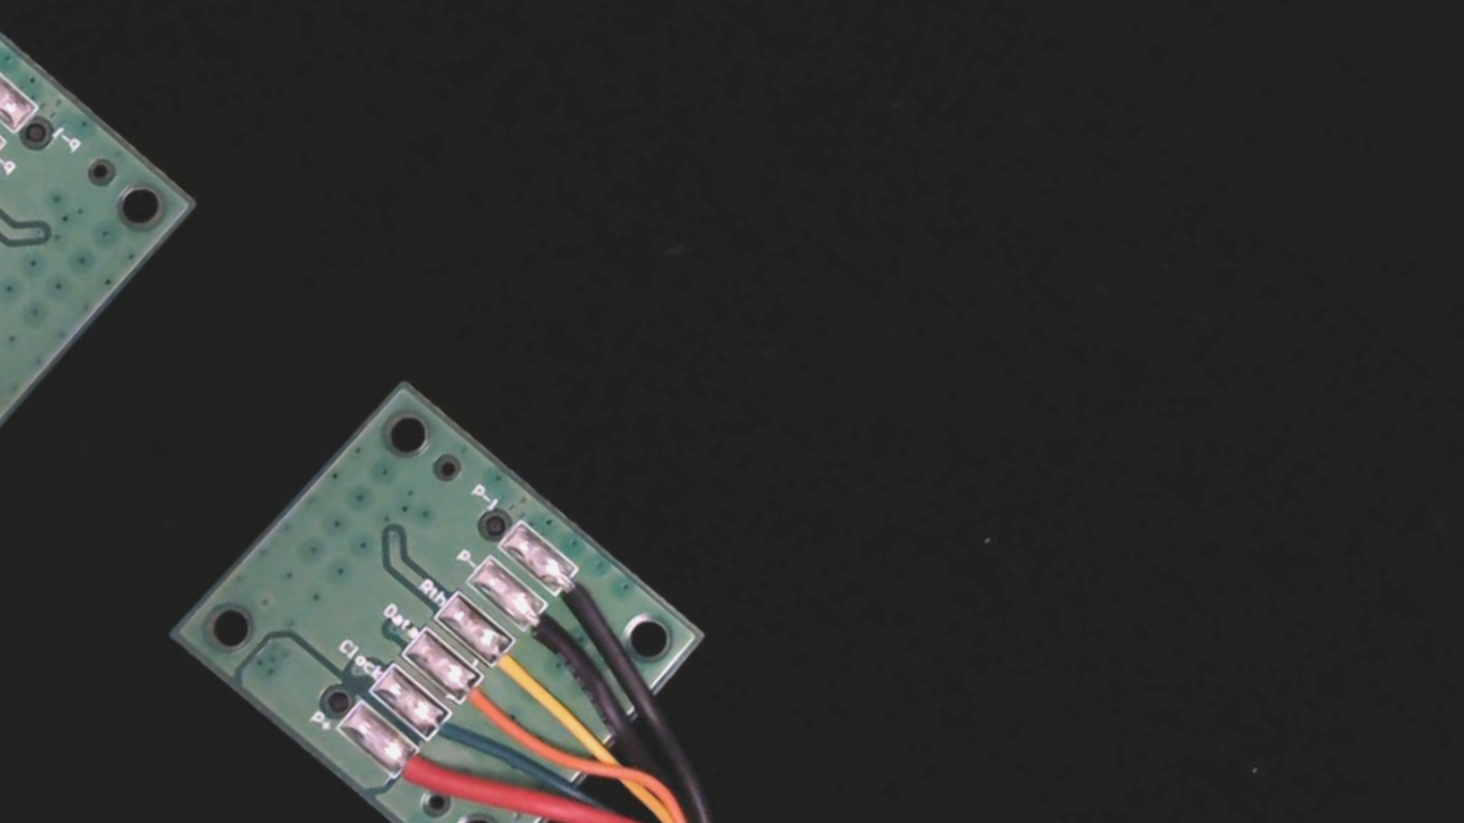Black: (509, 596, 588, 671)
Black1: (542, 558, 619, 632)
Green: (413, 698, 491, 773)
Orange: (445, 664, 524, 738)
Red: (380, 739, 461, 816)
Yellow: (477, 629, 560, 708)
